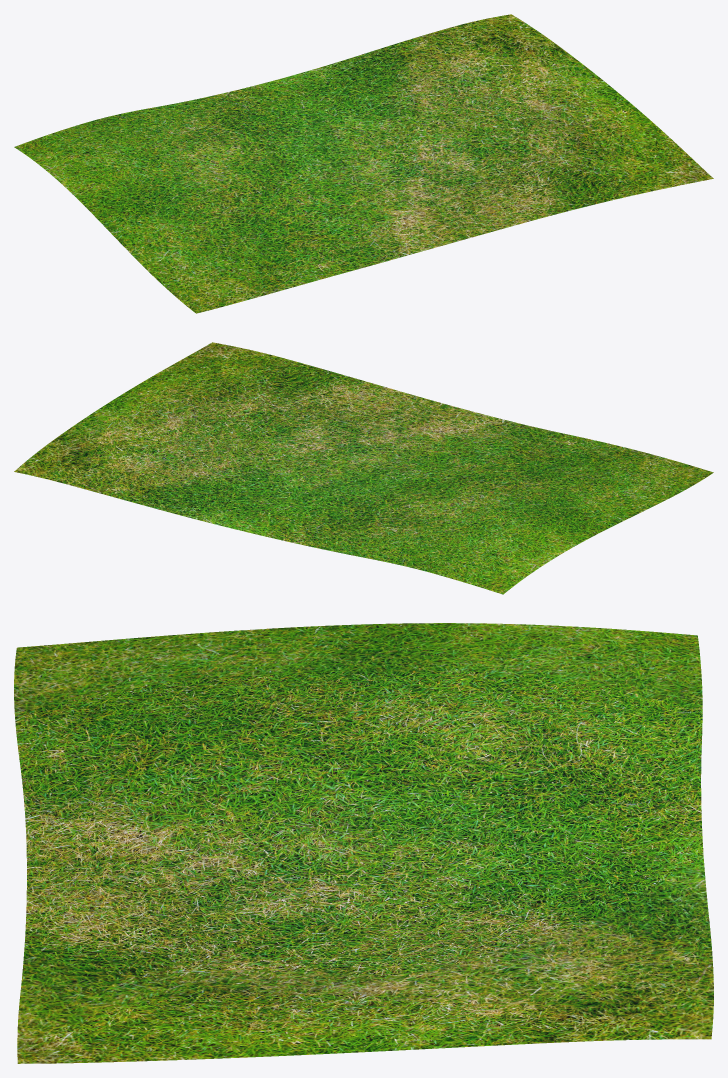
The model's file is grassyfield_but_where_the_grass_skechfab_reason.glb.
3 views of the same model, one above another, from view 1: azimuth 30°, elevation 25°; view 2: azimuth 150°, elevation 25°; view 3: azimuth 270°, elevation 25° (orthographic). The views are drawn at different scales.
Visible parts, largest first — view 1: g.001_0; view 2: g.001_0; view 3: g.001_0.
Part boxes in pixels (<box>): g.001_0: <box>14,14,713,313</box>; g.001_0: <box>14,342,713,594</box>; g.001_0: <box>14,623,713,1063</box>.
Bounding box in the file's own units: 1.63 × 0.0771 × 1.1.
Materials: 1 (1 with a texture image).
